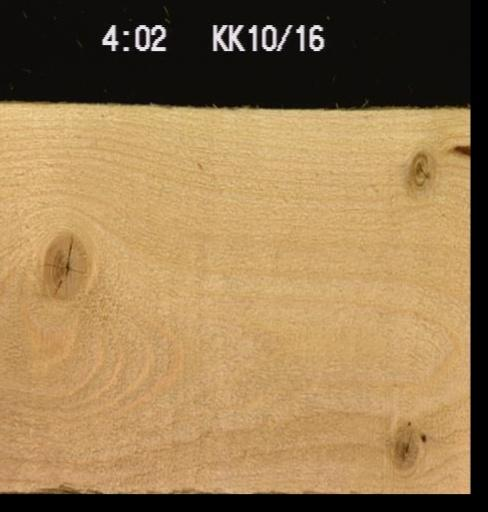sound_knot: (42, 228, 89, 299), (381, 421, 418, 471), (407, 148, 431, 188)
